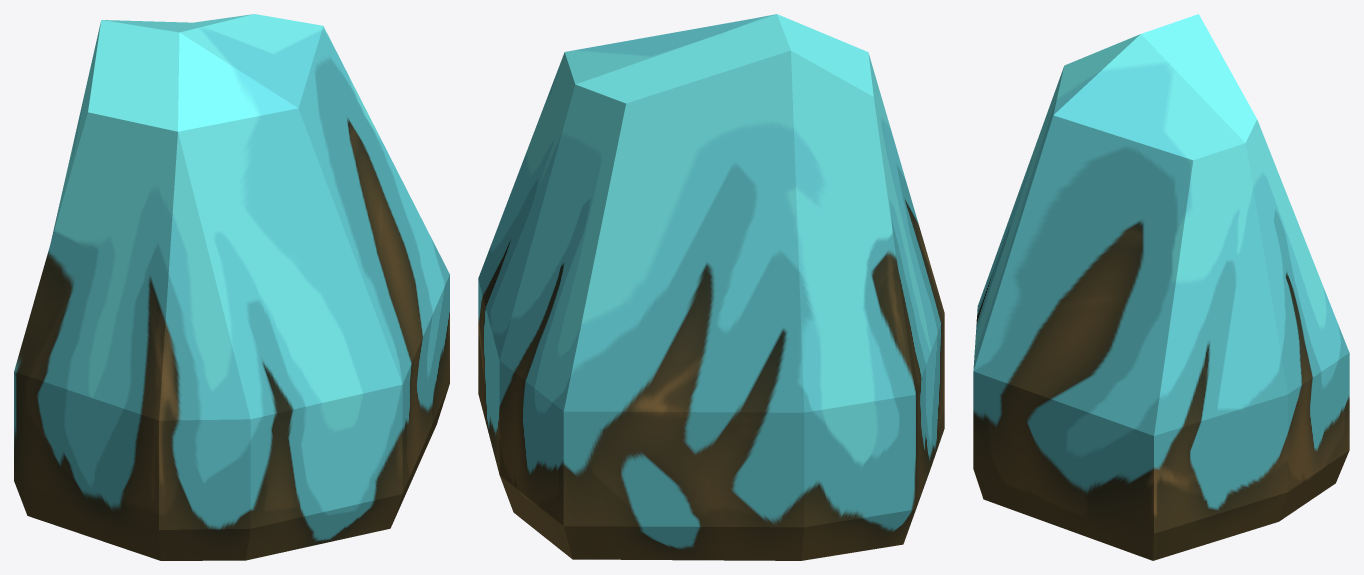
The model's file is SmallRock4.FBX.
The picture shows the model from 3 angles, left to right: view 1: azimuth 30°, elevation 25°; view 2: azimuth 150°, elevation 25°; view 3: azimuth 270°, elevation 25°; orthographic projection. The views are drawn at different scales.
Parts seen in each view (by area): view 1: Rock4; view 2: Rock4; view 3: Rock4.
Part boxes in pixels (x1,y1,x2,y2): Rock4: (14, 14, 449, 560); Rock4: (478, 14, 944, 560); Rock4: (973, 14, 1349, 560).
Size of the model in its own units: 26.36 by 27.26 by 22.55.
Materials: 1 (1 with a texture image).
